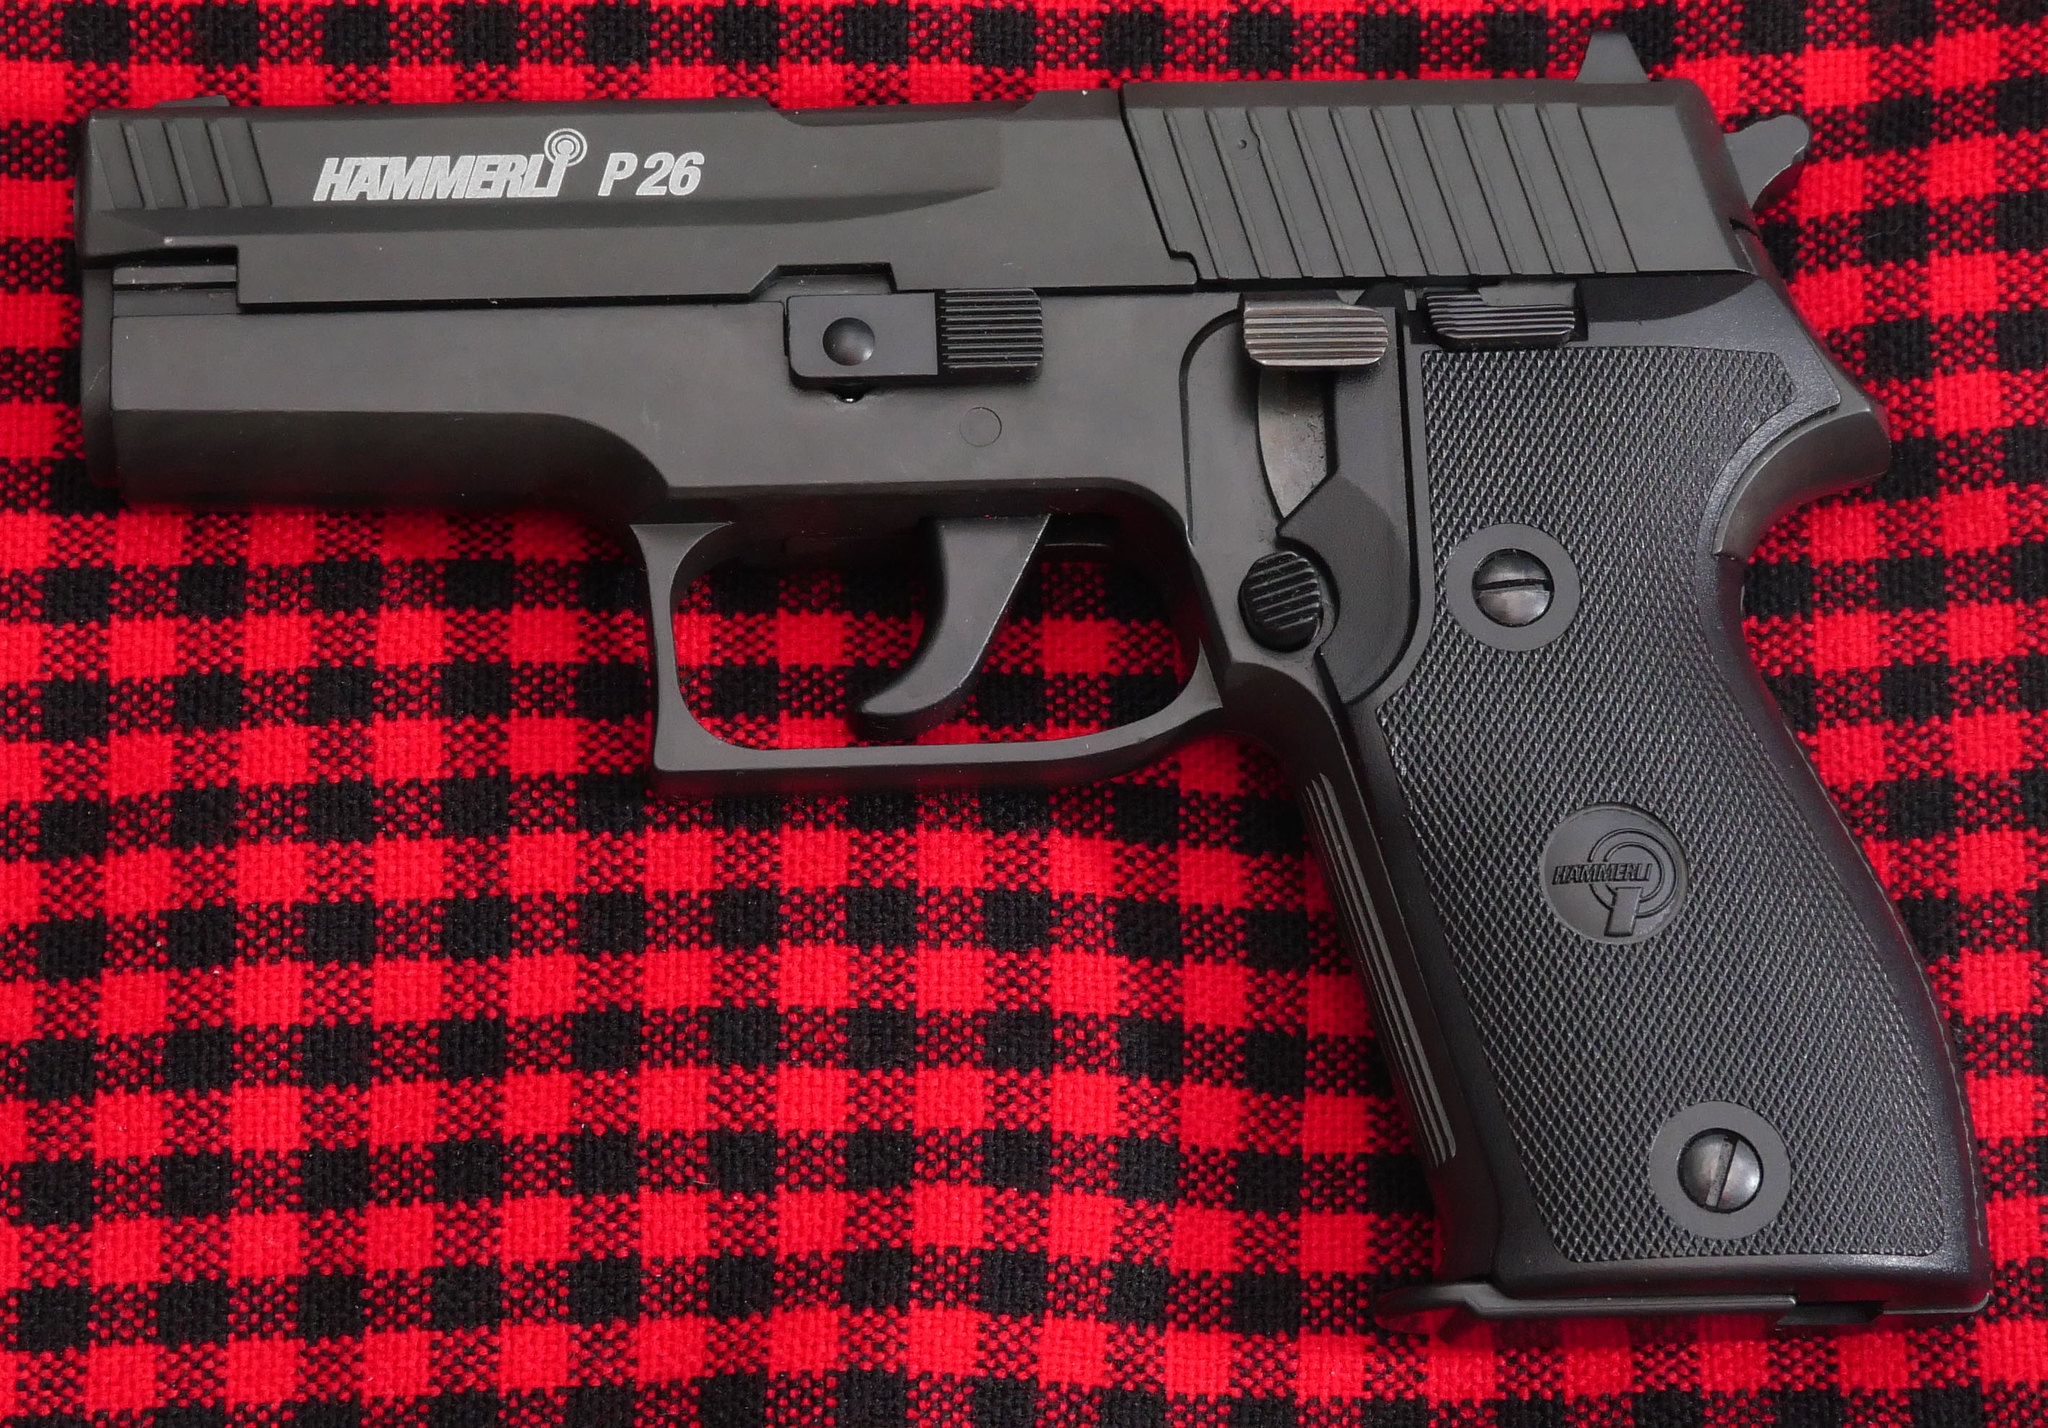gun: (65, 22, 2006, 1342)
